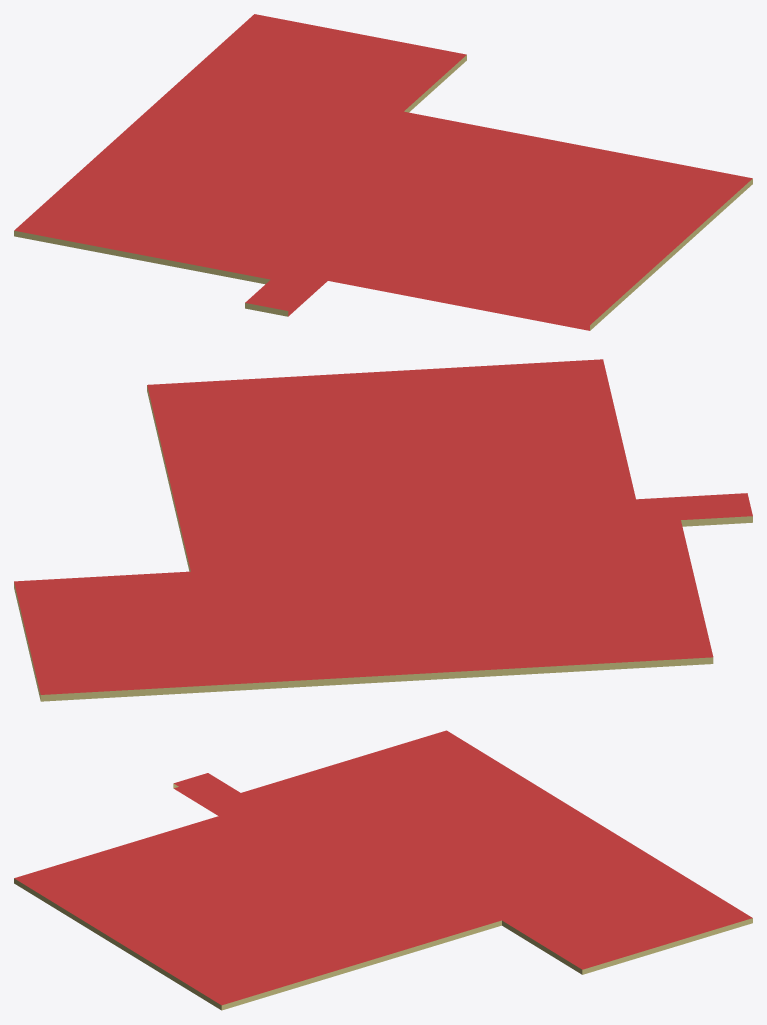
3 renders of one model, top to bottom at view 1: azimuth 30°, elevation 25°; view 2: azimuth 150°, elevation 25°; view 3: azimuth 270°, elevation 25°, orthographic. The views are drawn at different scales.
Bounding box in the file's own units: 11.22 × 13 × 0.257.
